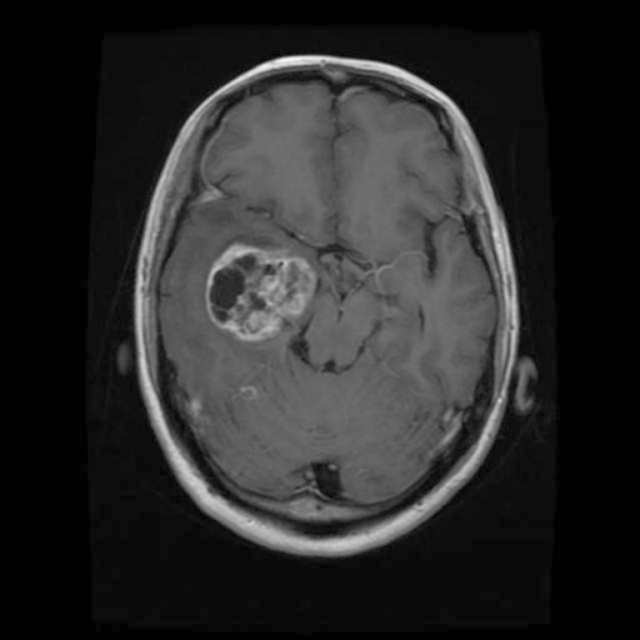pituitary tumor: (204, 242, 312, 340)
